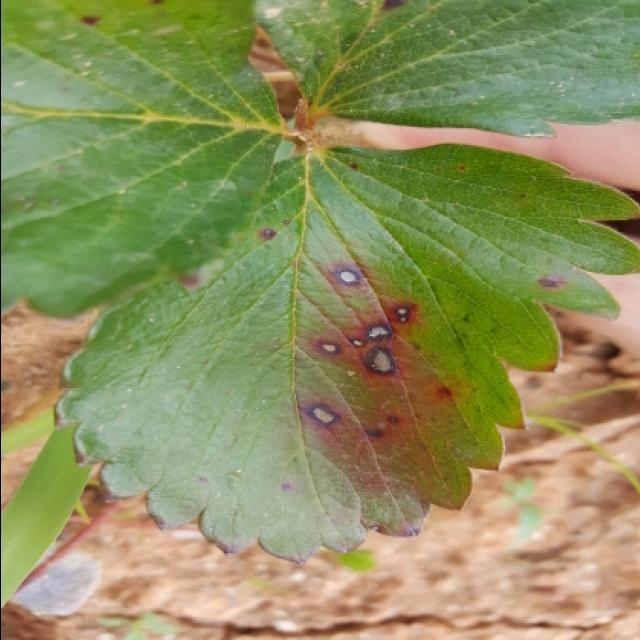Leaf Spot: (52, 141, 640, 566), (2, 0, 283, 321)
